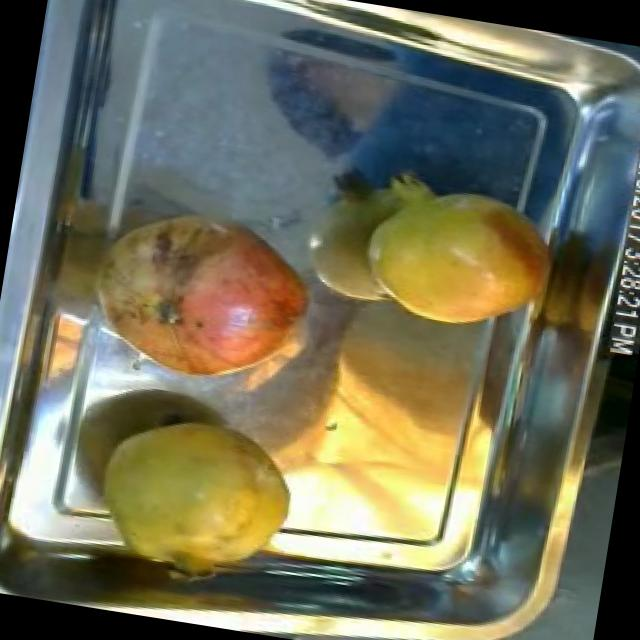fruit: (64, 186, 332, 406), (70, 396, 318, 599), (343, 162, 576, 352)
